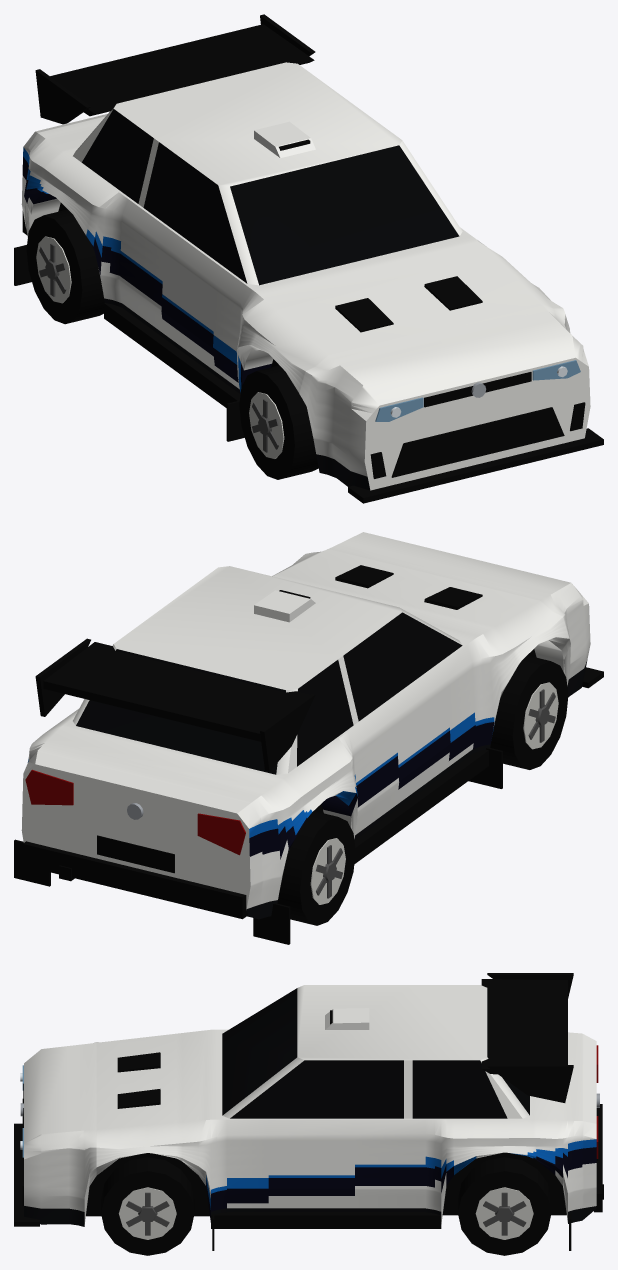
File: polo-r-wrc.glb
3 views of the same model, one above another, from view 1: azimuth 30°, elevation 25°; view 2: azimuth 150°, elevation 25°; view 3: azimuth 270°, elevation 25° (orthographic). The views are drawn at different scales.
Visible parts, largest first — view 1: body, cabin, cabin-body, wing, mouth, wheel-back-right, wheel-front-right, body-navy, skirt-right, splitter, wing-plate-right, body-sill (+7 smaller); view 2: body, cabin-body, cabin, wing, bumper-rear, wheel-front-right, wheel-back-right, body-navy, skirt-right, wing-plate-right, body-blue, plate-recess (+12 smaller); view 3: body, cabin, cabin-body, wing, body-navy, wheel-back-left, wheel-front-left, skirt-left, body-blue, body-sill, wing-plate-left, well-front (+9 smaller).
Part boxes in pixels (left/top/right/bottom): body: left=21, top=114, right=590, bottom=490; cabin: left=82, top=109, right=459, bottom=285; cabin-body: left=73, top=62, right=462, bottom=285; wing: left=50, top=24, right=314, bottom=116; mouth: left=391, top=407, right=564, bottom=477; wheel-back-right: left=26, top=209, right=104, bottom=324; wheel-front-right: left=239, top=365, right=318, bottom=479; body-navy: left=22, top=156, right=271, bottom=386; skirt-right: left=104, top=303, right=240, bottom=407; splitter: left=348, top=428, right=603, bottom=503; wing-plate-right: left=35, top=69, right=90, bottom=124; body-sill: left=26, top=228, right=370, bottom=490; body: left=21, top=532, right=590, bottom=909; cabin-body: left=73, top=566, right=461, bottom=774; cabin: left=76, top=612, right=462, bottom=774; wing: left=43, top=642, right=309, bottom=741; bumper-rear: left=22, top=841, right=247, bottom=919; wheel-front-right: left=490, top=655, right=568, bottom=769; wheel-back-right: left=277, top=811, right=355, bottom=925; body-navy: left=249, top=722, right=494, bottom=859; skirt-right: left=354, top=749, right=488, bottom=864; wing-plate-right: left=260, top=693, right=315, bottom=771; body-blue: left=27, top=712, right=494, bottom=837; plate-recess: left=97, top=835, right=174, bottom=873; body: left=24, top=1029, right=596, bottom=1223; cabin: left=222, top=988, right=529, bottom=1118; cabin-body: left=222, top=985, right=529, bottom=1118; wing: left=481, top=979, right=567, bottom=1074; body-navy: left=206, top=1147, right=596, bottom=1222; wheel-back-left: left=458, top=1157, right=551, bottom=1255; wheel-front-left: left=101, top=1157, right=194, bottom=1255; skirt-left: left=211, top=1212, right=441, bottom=1228; body-blue: left=206, top=1139, right=596, bottom=1209; body-sill: left=24, top=1206, right=596, bottom=1226; wing-plate-left: left=487, top=1065, right=573, bottom=1102; well-front: left=86, top=1153, right=209, bottom=1216.
Bounding box in the file's own units: 1.89 × 1.41 × 4.1.
